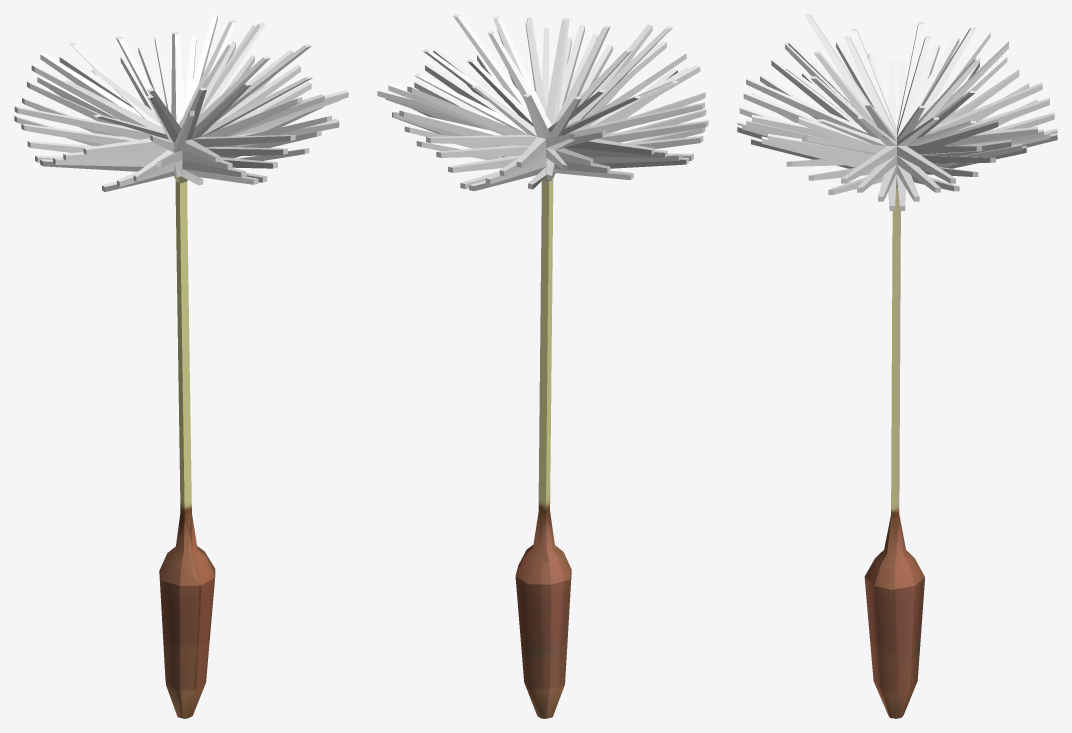
The model's file is dandelionSeed.fbx.
3 renders of one model, left to right at view 1: azimuth 30°, elevation 25°; view 2: azimuth 150°, elevation 25°; view 3: azimuth 270°, elevation 25°, orthographic.
Parts seen in each view (by area): view 1: pCube464; view 2: pCube464; view 3: pCube464.
Boxes of the visible parts, bbox=[...] form: pCube464: bbox=[14, 14, 348, 718]; pCube464: bbox=[377, 14, 708, 718]; pCube464: bbox=[737, 14, 1057, 718].
Bounding box in the file's own units: 158 × 363 × 158.
